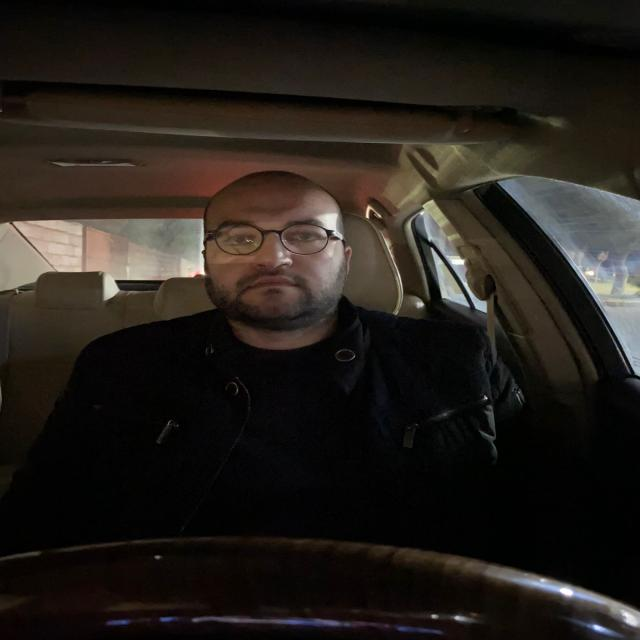person: (196, 175, 366, 332)
